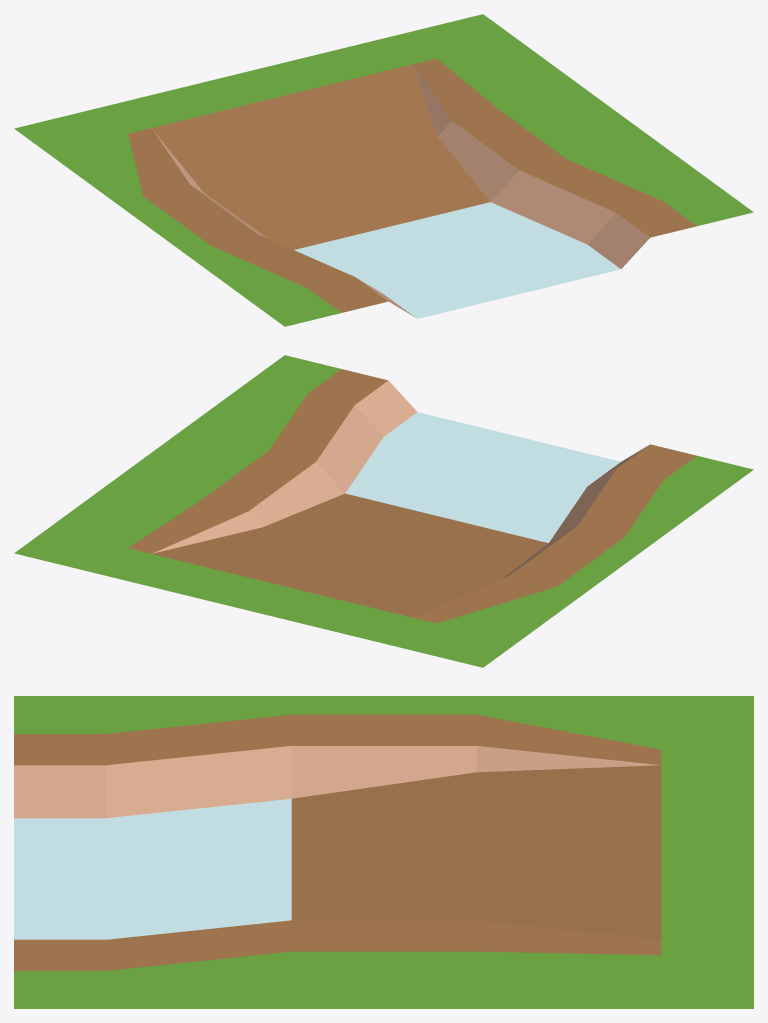
Rendered from ground_riverEnd.glb.
The picture shows the model from 3 angles, top to bottom: view 1: azimuth 30°, elevation 25°; view 2: azimuth 150°, elevation 25°; view 3: azimuth 270°, elevation 25°; orthographic projection. The views are drawn at different scales.
Visible parts, largest first — view 1: ground_riverEnd; view 2: ground_riverEnd; view 3: ground_riverEnd.
Part boxes in pixels (x1,y1,x2,y2): ground_riverEnd: (14, 14, 753, 326); ground_riverEnd: (14, 355, 753, 667); ground_riverEnd: (14, 696, 753, 1008).
Bounding box in the file's own units: 1 × 0.05 × 1.
